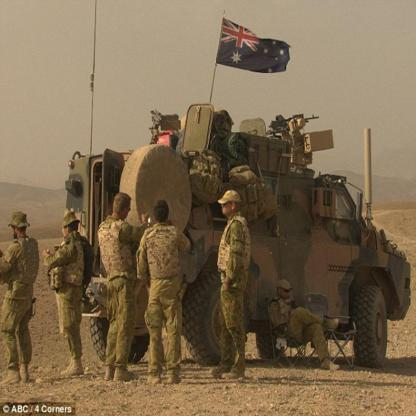face: (222, 199, 232, 216), (12, 224, 19, 240), (282, 287, 290, 301), (63, 223, 70, 237), (126, 202, 132, 218)
